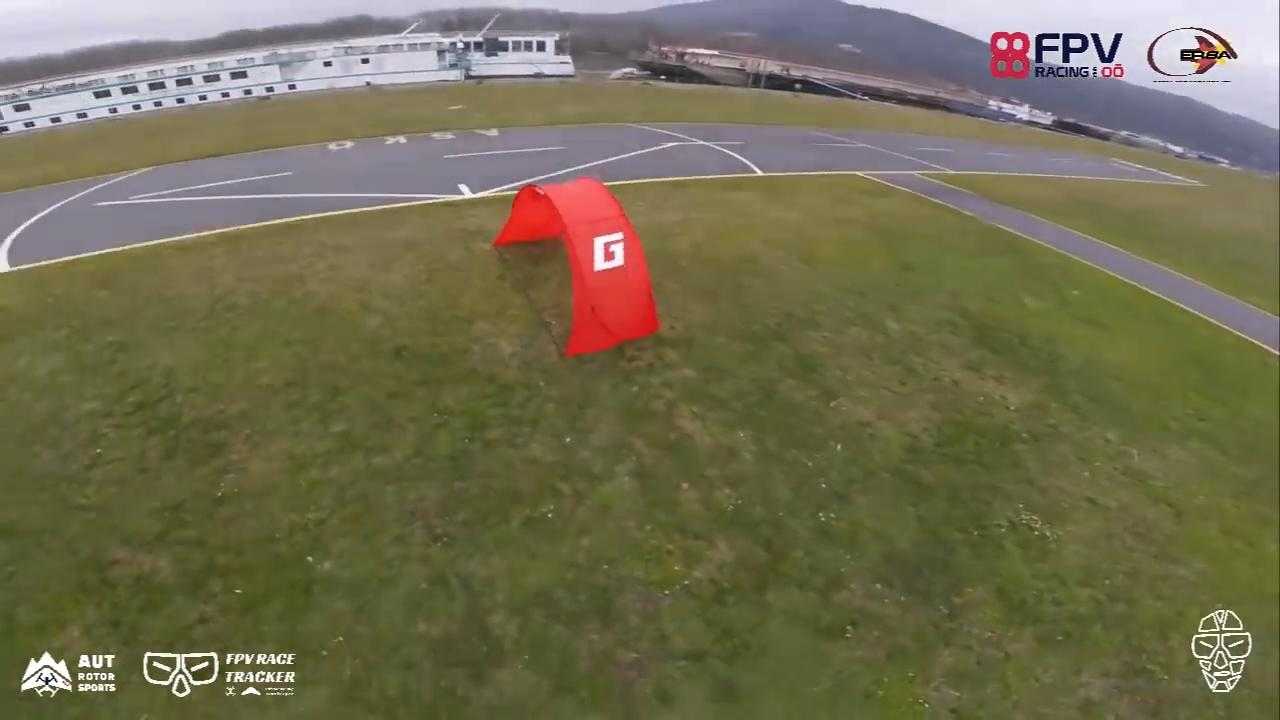gate: (490, 172, 660, 362)
